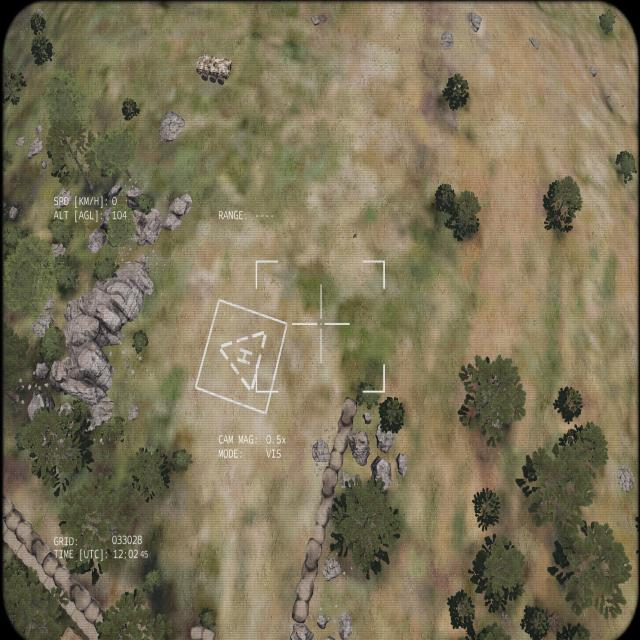apc: (195, 52, 232, 86)
